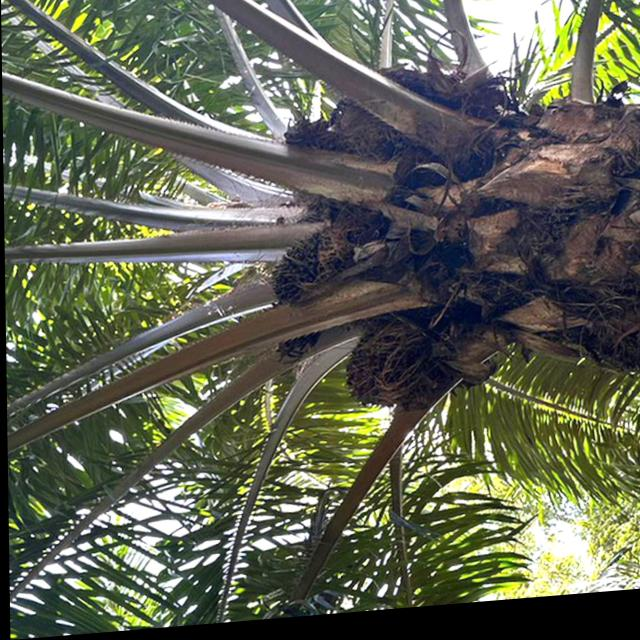unripe: (329, 320, 444, 429), (253, 229, 366, 324)
